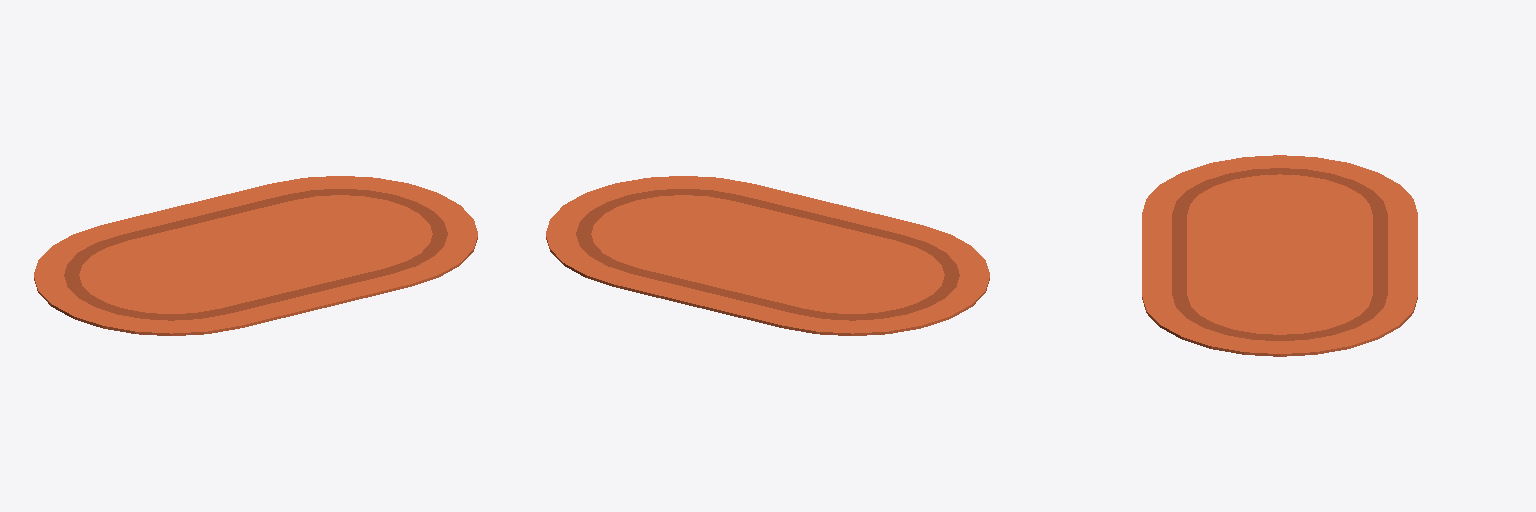
Rendered from rugRounded.obj.
3 renders of one model, left to right at view 1: azimuth 30°, elevation 25°; view 2: azimuth 150°, elevation 25°; view 3: azimuth 270°, elevation 25°, orthographic.
Parts seen in each view (by area): view 1: rugRounded; view 2: rugRounded; view 3: rugRounded.
Part boxes in pixels (bbox=[...]): rugRounded: bbox=[34, 176, 477, 335]; rugRounded: bbox=[546, 176, 989, 335]; rugRounded: bbox=[1142, 155, 1417, 356].
Size of the model in its own units: 15.7 by 0.1 by 9.2.